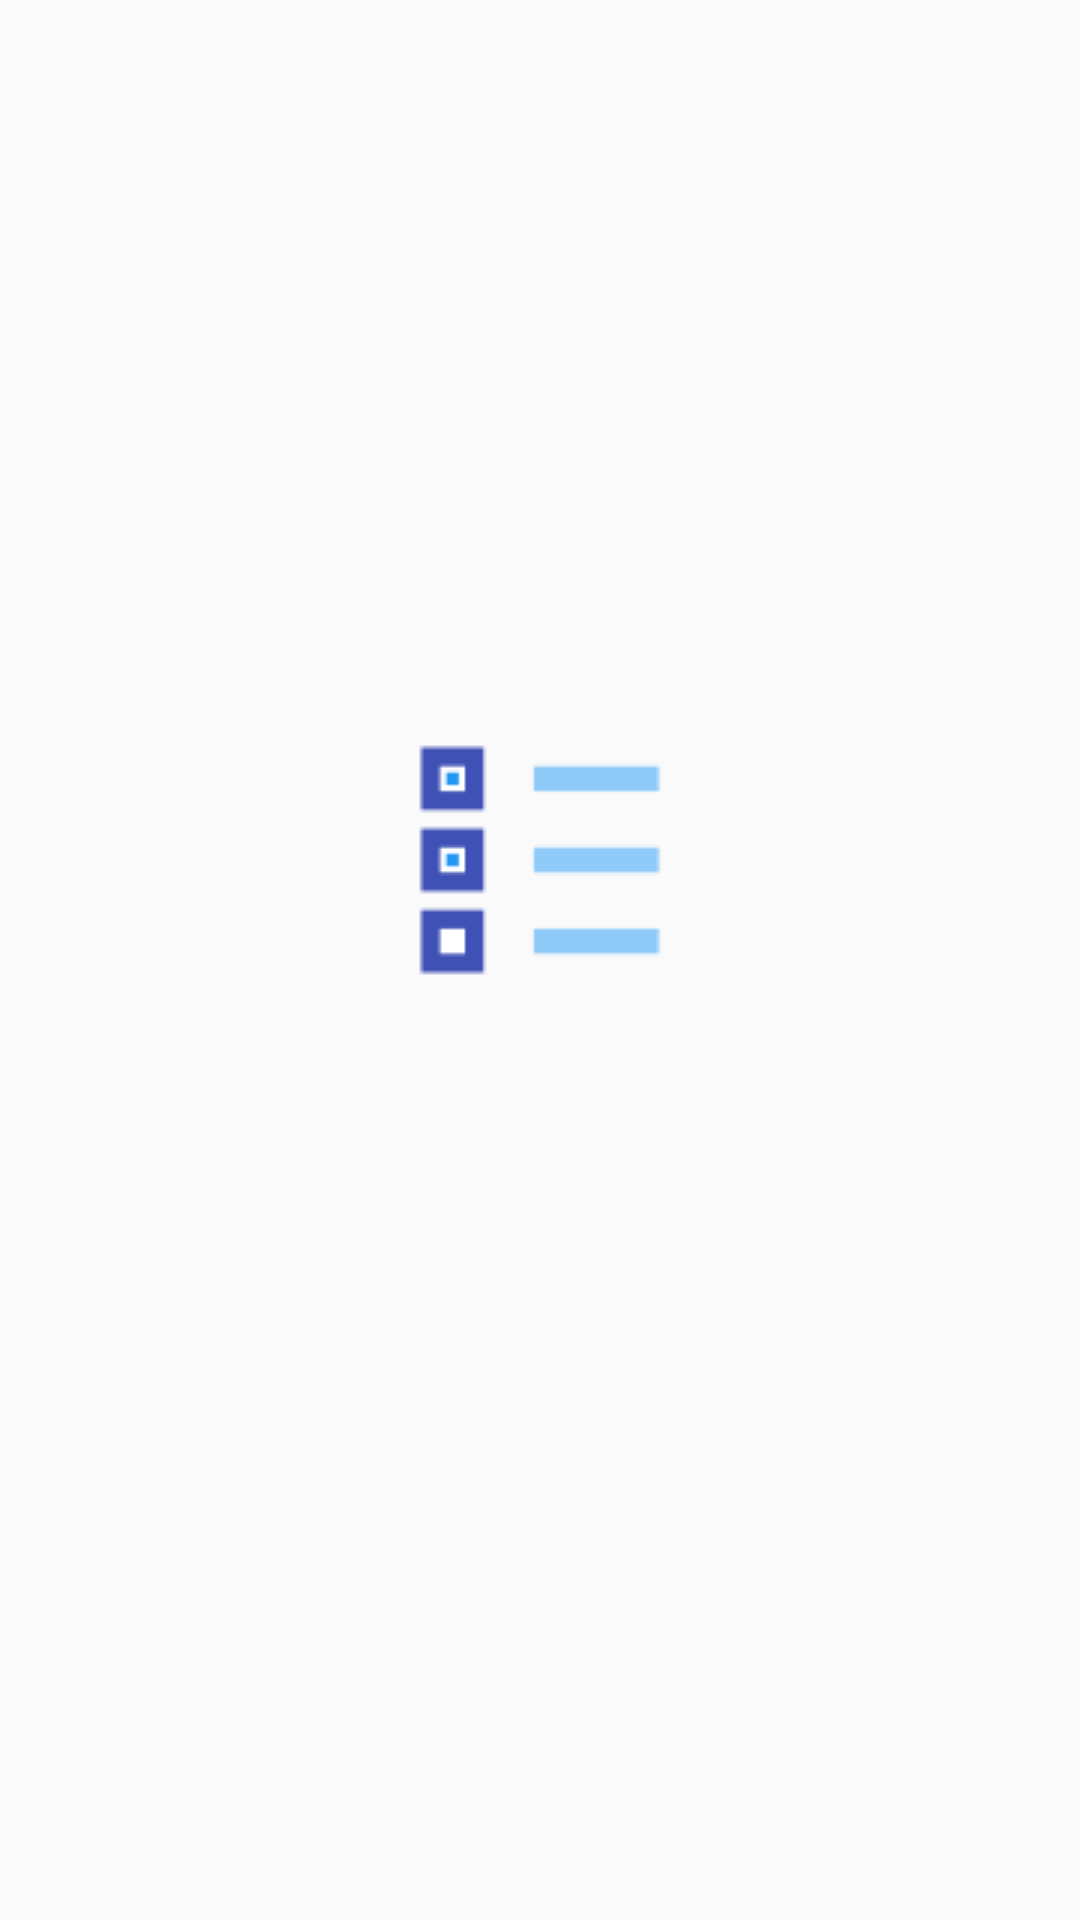

Where icons sit on this 1080w x 1920h app screen, as (x1,y1,x2,y2):
checklist: (419,745,660,975)
